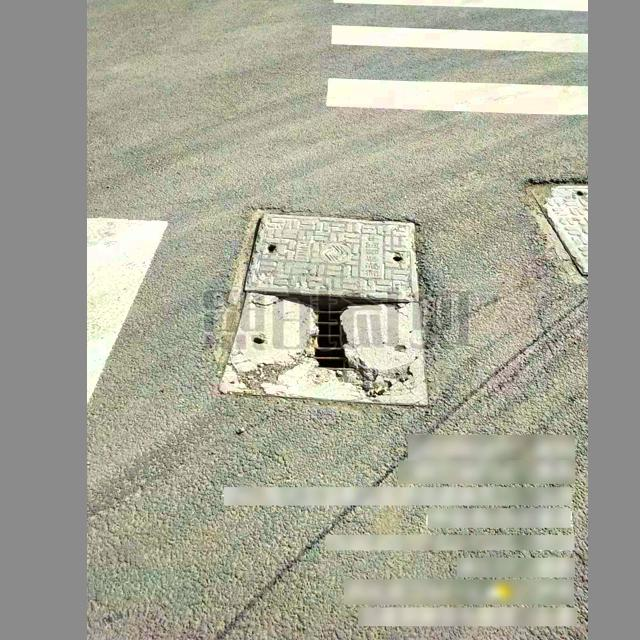broke: (216, 213, 431, 407)
